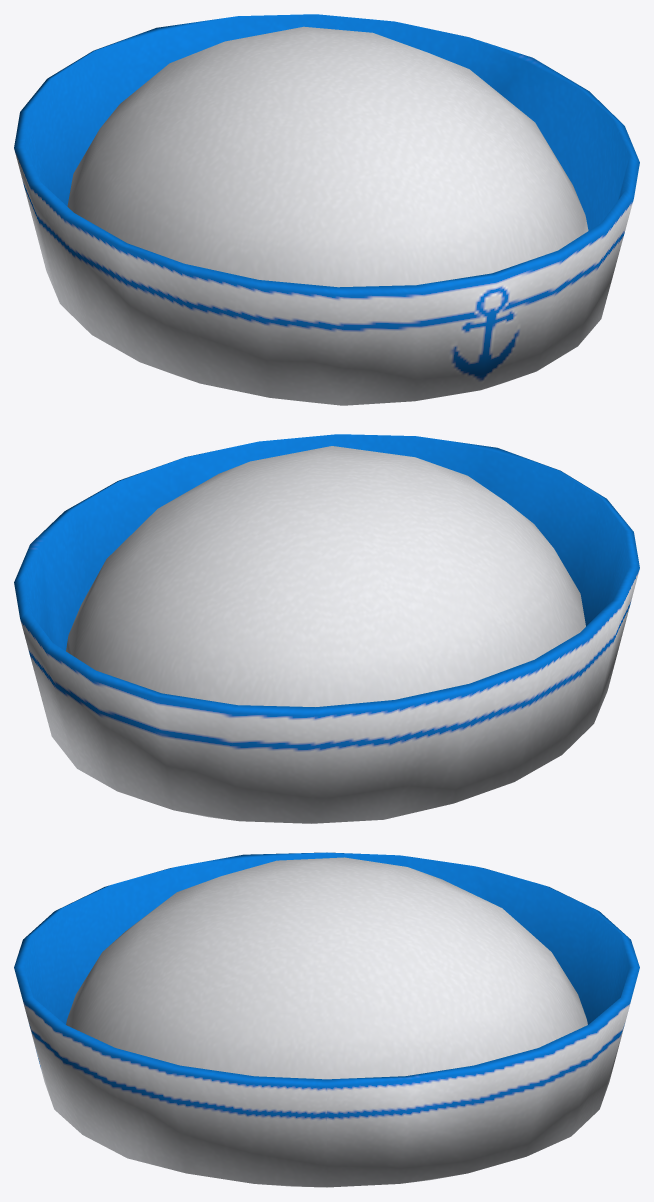
Rendered from Hats_Sailor_s_Hat.fbx.
3 renders of one model, top to bottom at view 1: azimuth 30°, elevation 25°; view 2: azimuth 150°, elevation 25°; view 3: azimuth 270°, elevation 25°, orthographic. The views are drawn at different scales.
Visible parts, largest first — view 1: SailorHat; view 2: SailorHat; view 3: SailorHat.
Boxes of the visible parts, x1,y1,x2,y2 form: SailorHat: [14, 14, 639, 405]; SailorHat: [14, 434, 639, 823]; SailorHat: [14, 852, 639, 1187].
Size of the model in its own units: 97.92 by 39.28 by 110.
